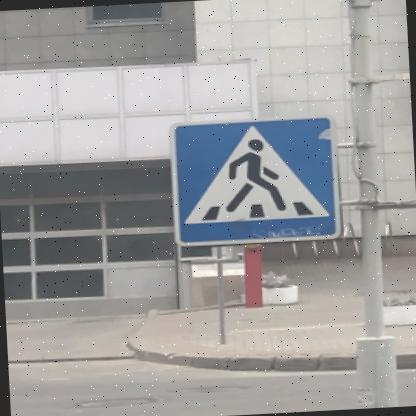crosswalk: (166, 112, 340, 246)
